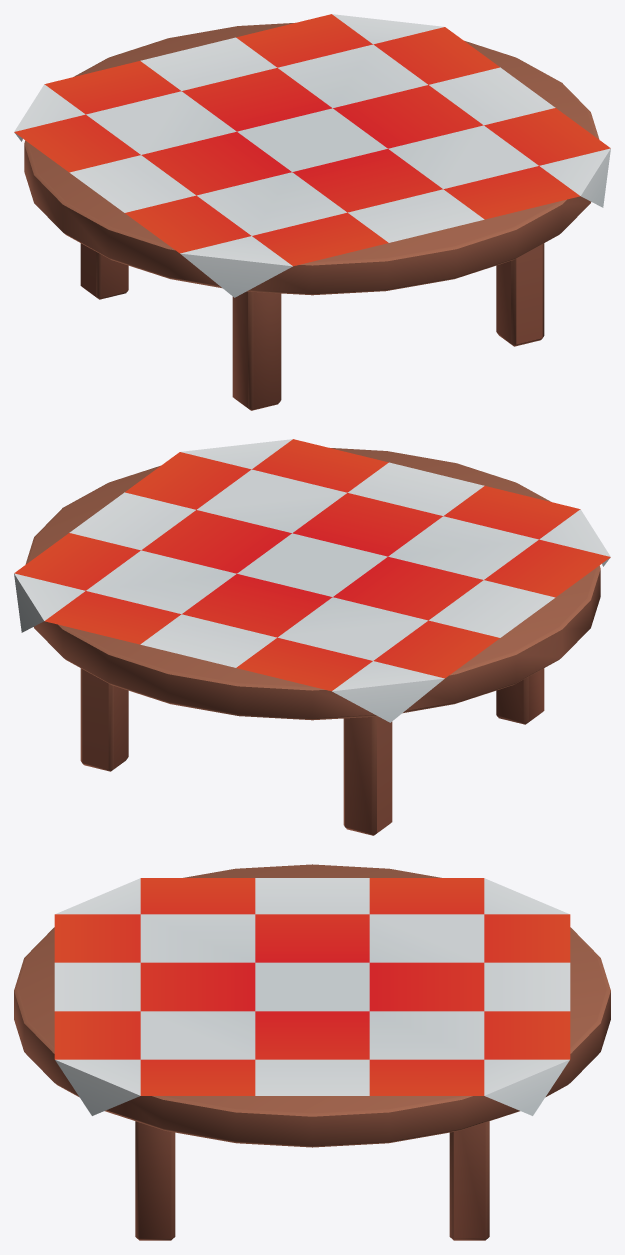
The model's file is table_round_B_tablecloth_red.obj.
3 renders of one model, top to bottom at view 1: azimuth 30°, elevation 25°; view 2: azimuth 150°, elevation 25°; view 3: azimuth 270°, elevation 25°, orthographic. The views are drawn at different scales.
Visible parts, largest first — view 1: table_round_B_tablecloth_red_Cylinder.370; view 2: table_round_B_tablecloth_red_Cylinder.370; view 3: table_round_B_tablecloth_red_Cylinder.370.
Boxes of the visible parts, x1=… form: table_round_B_tablecloth_red_Cylinder.370: x1=14, y1=14, x2=610, y2=410; table_round_B_tablecloth_red_Cylinder.370: x1=14, y1=439, x2=610, y2=835; table_round_B_tablecloth_red_Cylinder.370: x1=14, y1=864, x2=610, y2=1240.
Size of the model in its own units: 3 by 1 by 3.
Materials: 1 (1 with a texture image).
